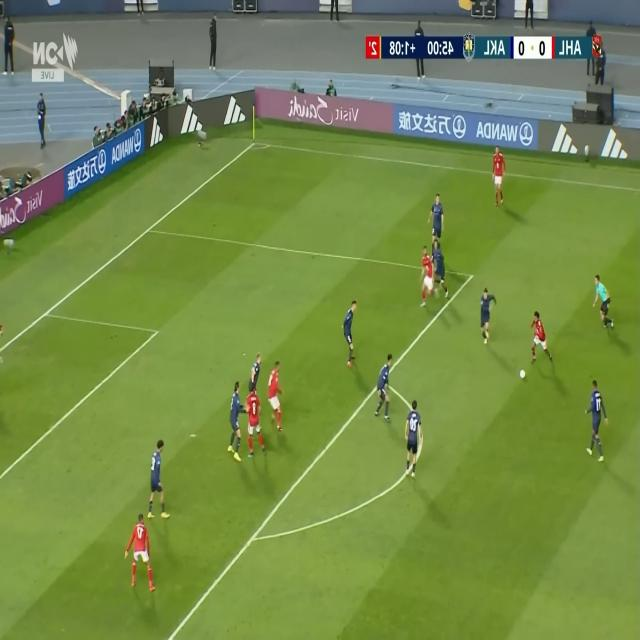Ball: (518, 368, 528, 382)
Player: (124, 510, 154, 593), (148, 436, 172, 520), (586, 379, 609, 460), (246, 381, 268, 461), (228, 378, 248, 464), (268, 358, 286, 436), (404, 402, 422, 476), (374, 351, 393, 421), (476, 288, 498, 346), (529, 308, 552, 363), (427, 193, 445, 260), (490, 146, 508, 208), (344, 296, 359, 368), (432, 238, 449, 300), (420, 244, 434, 309), (248, 352, 262, 415)
Ref: (594, 272, 613, 328)
